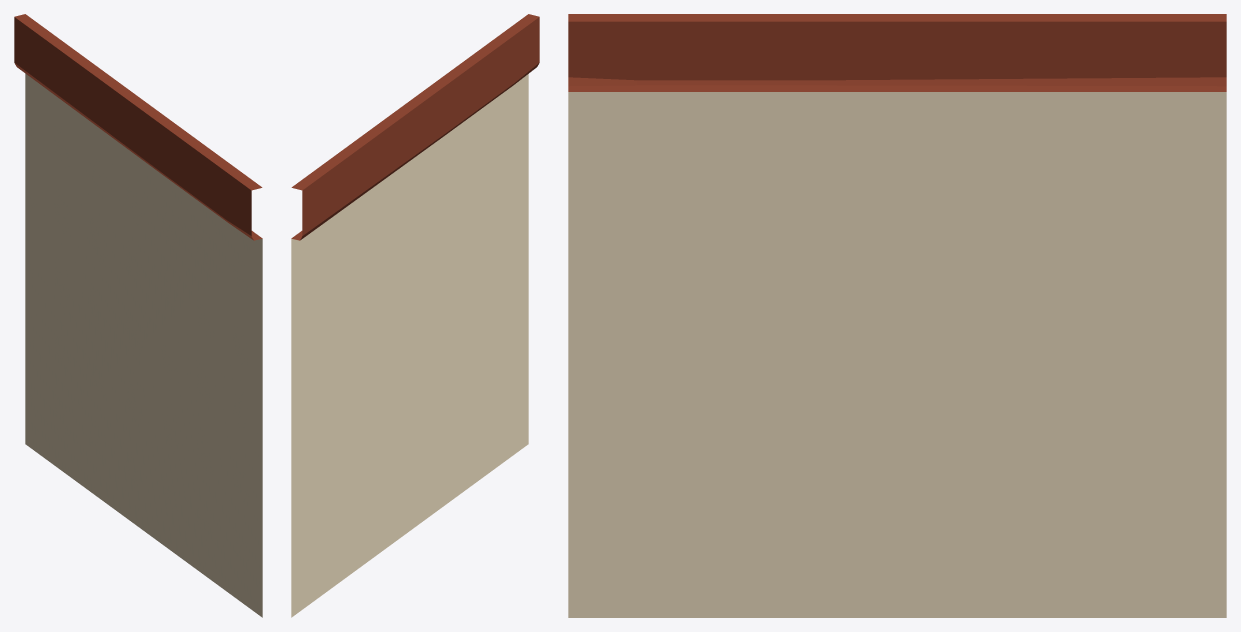
Rendered from SM_Wall_4_4.fbx.
The picture shows the model from 3 angles, left to right: view 1: azimuth 30°, elevation 25°; view 2: azimuth 150°, elevation 25°; view 3: azimuth 270°, elevation 25°; orthographic projection. The views are drawn at different scales.
Parts seen in each view (by area): view 1: Wall_4_4; view 2: Wall_4_4; view 3: Wall_4_4.
Part boxes in pixels (x1,y1,x2,y2): Wall_4_4: [14, 14, 262, 617]; Wall_4_4: [291, 14, 539, 617]; Wall_4_4: [568, 14, 1226, 617].
Bounding box in the file's own units: 10.96 × 400 × 400.
